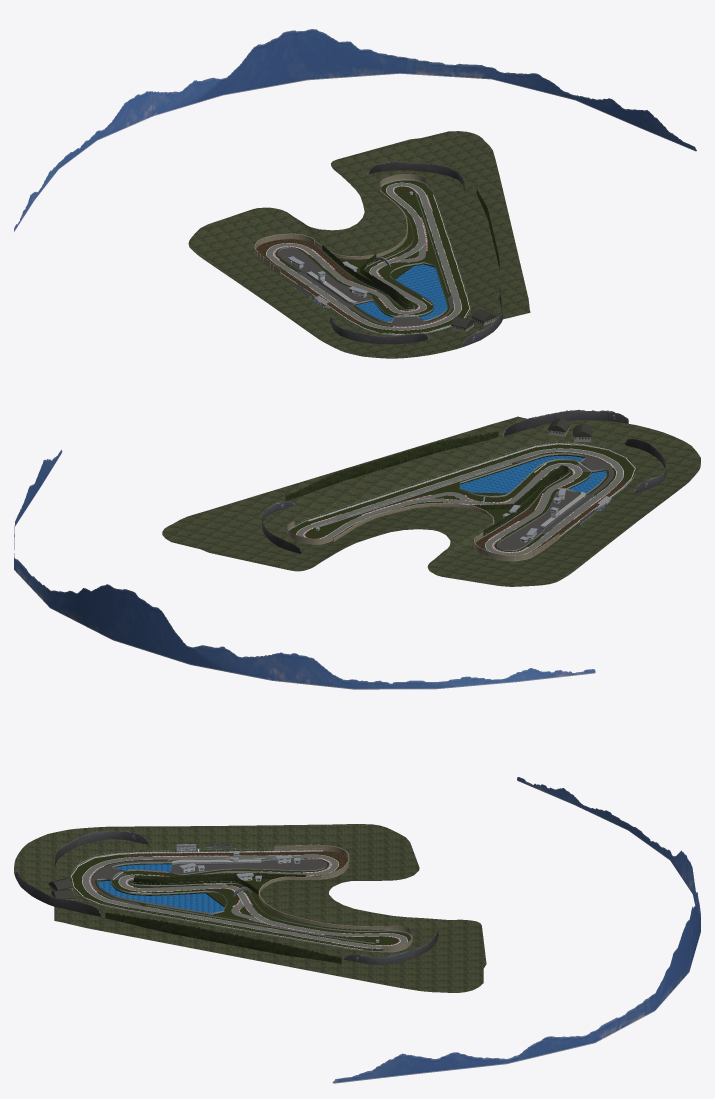
3 views of the same model, one above another, from view 1: azimuth 30°, elevation 25°; view 2: azimuth 150°, elevation 25°; view 3: azimuth 270°, elevation 25° (orthographic). The views are drawn at different scales.
Visible parts, largest first — view 1: g.007_56, Mountain_49, g_39, inner_46, Plane.001_66, g.002_44, bounds.003_47, bounds_40, g.012_62, r_38, Mountain.002_55, Mountain.001_53 (+4 smaller); view 2: g.007_56, Mountain_49, g_39, inner_46, g.009_59, Plane.001_66, g.002_44, bounds_40, bounds.003_47, g.008_58, Mountain.002_55, g.006_54 (+7 smaller); view 3: g.007_56, Mountain_49, g_39, inner_46, g.009_59, bounds_40, bounds.003_47, g.002_44, Plane.001_66, Mountain.002_55, g.006_54, r_38 (+6 smaller).
Part boxes in pixels (x1,y1,x2,y2): g.007_56: (188,131,530,358); Mountain_49: (14,29,696,231); g_39: (275,180,470,334); inner_46: (266,183,461,330); Plane.001_66: (279,206,459,322); g.002_44: (356,264,447,321); bounds.003_47: (254,174,428,274); bounds_40: (254,179,470,335); g.012_62: (256,239,363,325); r_38: (266,182,461,330); Mountain.002_55: (322,245,412,308); Mountain.001_53: (330,316,432,344); g.007_56: (162,416,700,586); Mountain_49: (14,449,595,689); g_39: (289,444,635,551); inner_46: (296,448,623,555); g.009_59: (285,431,498,501); Plane.001_66: (335,457,618,543); g.002_44: (459,456,606,493); bounds_40: (289,443,635,561); bounds.003_47: (287,503,559,561); g.008_58: (502,409,628,436); Mountain.002_55: (475,465,568,535); g.006_54: (497,490,580,550); g.007_56: (14,824,486,992); Mountain_49: (332,777,700,1083); g_39: (70,854,411,951); inner_46: (82,855,407,948); g.009_59: (105,912,341,963); bounds_40: (70,850,411,952); bounds.003_47: (258,844,412,951); g.002_44: (97,864,224,913); Plane.001_66: (127,855,351,942); Mountain.002_55: (134,872,306,894); g.006_54: (171,859,326,874); r_38: (82,854,407,948).
Size of the model in its own units: 35.45 by 3.39 by 33.87.
21 materials, 21 textured.
